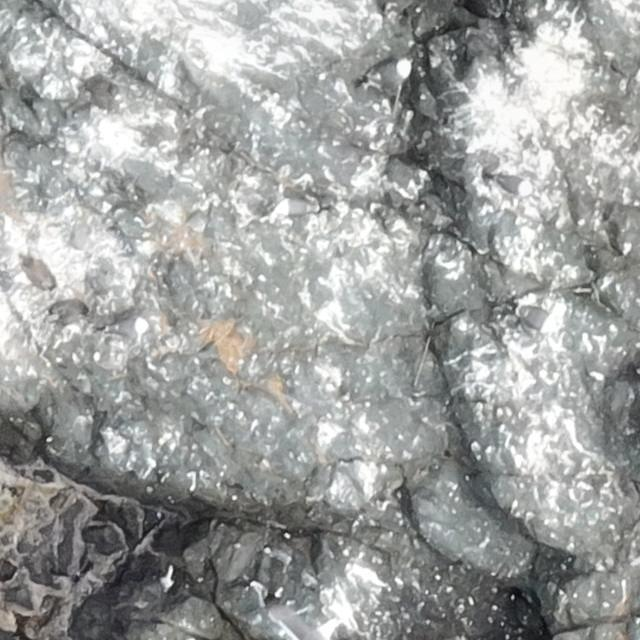umineko: (514, 305, 560, 333), (488, 174, 535, 195), (370, 60, 408, 82), (112, 317, 150, 335), (276, 200, 319, 215)
